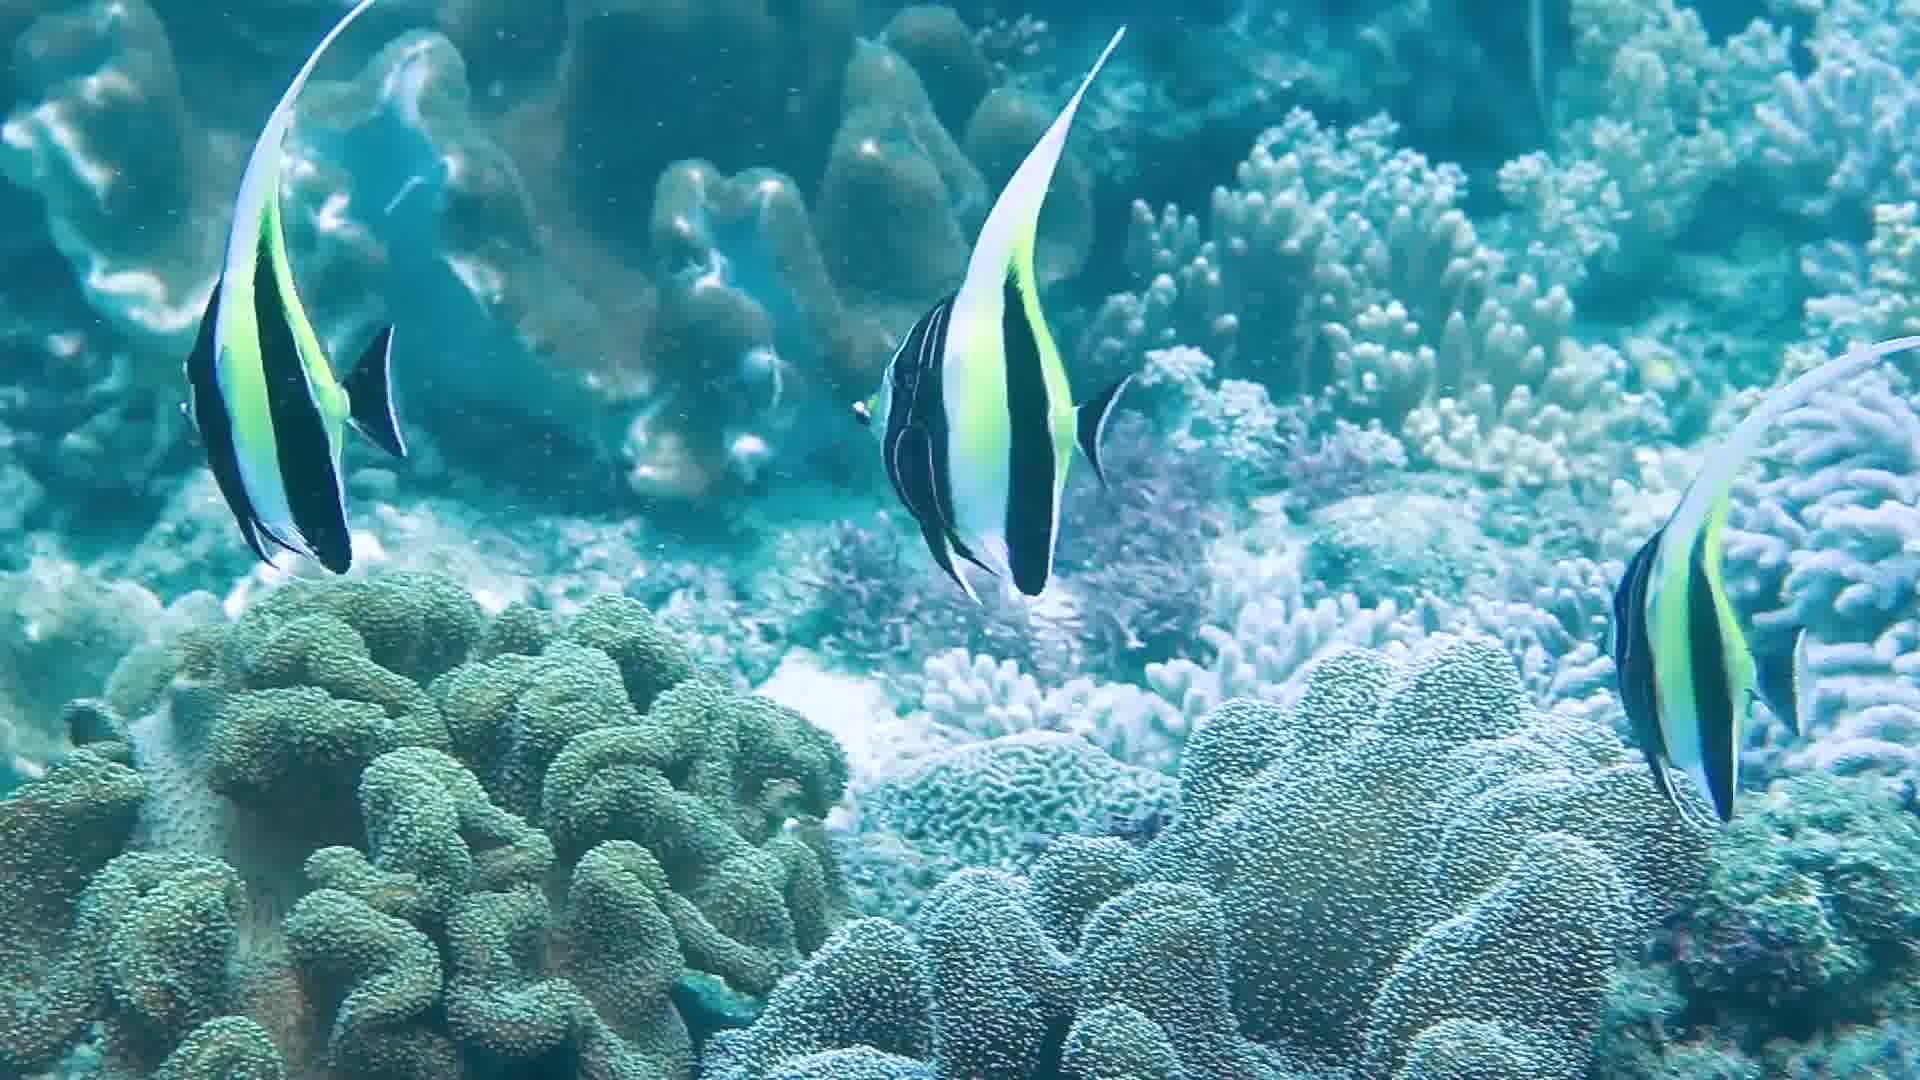Zanclus cornutus: (137, 216, 439, 574), (833, 261, 1135, 591), (1589, 485, 1803, 829)
